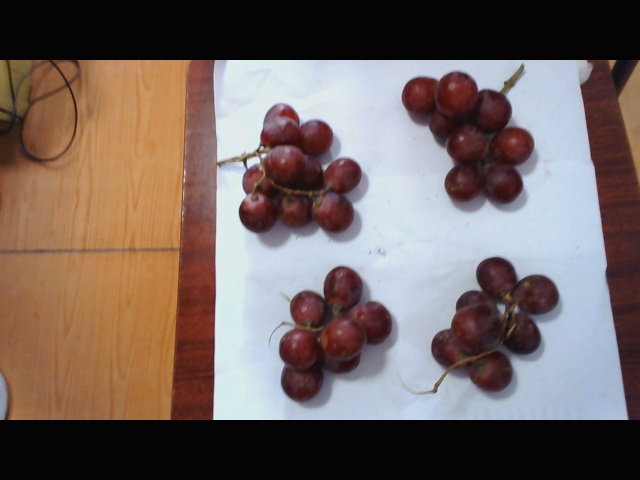grape: (431, 236, 570, 409), (400, 67, 539, 202), (235, 104, 370, 241), (265, 263, 395, 401)
